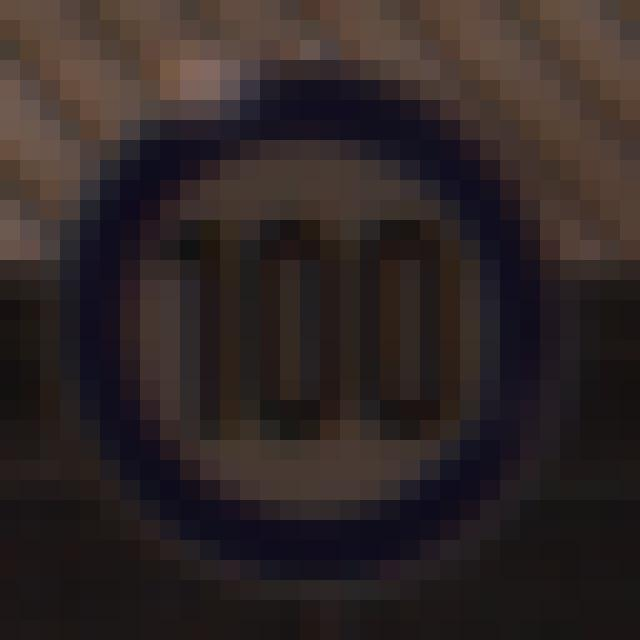SPEED LIMIT 100: (65, 97, 553, 566)
